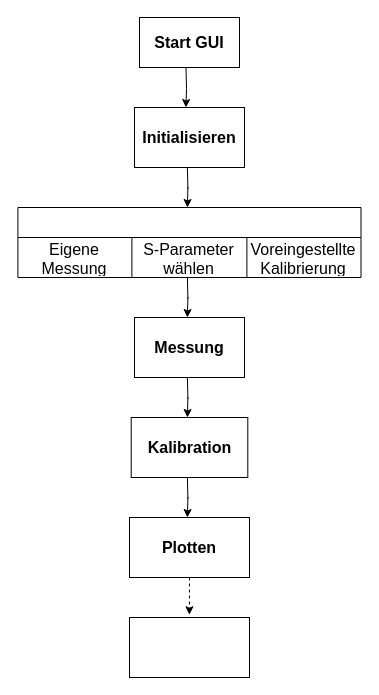
Some shapes in this 379 by 695 pixel diagram are drawn without their labels. The shapes that lost their labels are listed below. From the top down, each one's box as (x1, y1, x2, y2) in pixels, then its label:
(17, 206, 361, 278): Kalibrationsdaten erzeugen
(128, 616, 250, 678): Speichern
